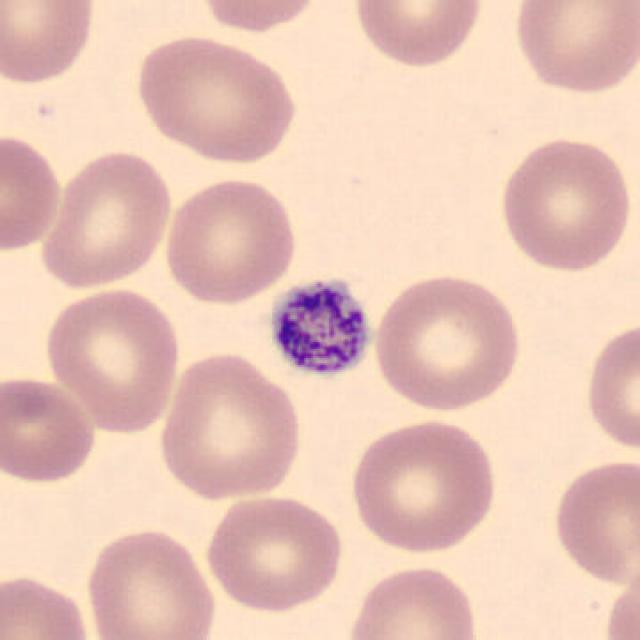Platelets: (263, 273, 377, 383)
RBC: (154, 348, 306, 504), (130, 30, 300, 166), (368, 270, 524, 414), (345, 414, 501, 557), (39, 284, 185, 435), (494, 132, 635, 275), (38, 144, 174, 291), (160, 173, 300, 307), (201, 490, 347, 614), (81, 523, 220, 640), (508, 0, 638, 99), (548, 455, 638, 587), (0, 372, 100, 488), (343, 562, 484, 640), (349, 0, 487, 71), (0, 0, 100, 88), (0, 130, 66, 254), (582, 317, 638, 457), (0, 569, 96, 640), (192, 0, 327, 35), (601, 559, 640, 640)
